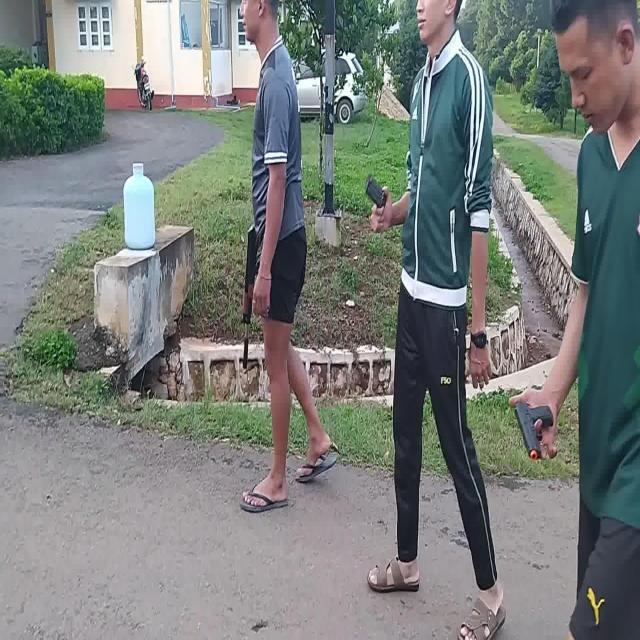gun: (516, 402, 554, 458), (242, 227, 256, 367)
